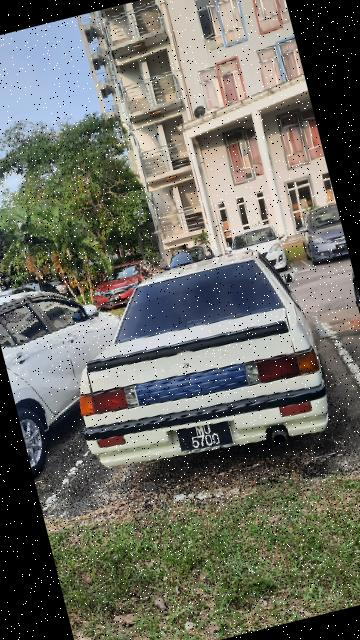License_Plate: (174, 409, 244, 463)
car: (52, 229, 343, 503), (1, 265, 163, 487), (291, 188, 352, 275), (219, 220, 295, 284), (90, 254, 161, 320), (165, 239, 217, 288)
